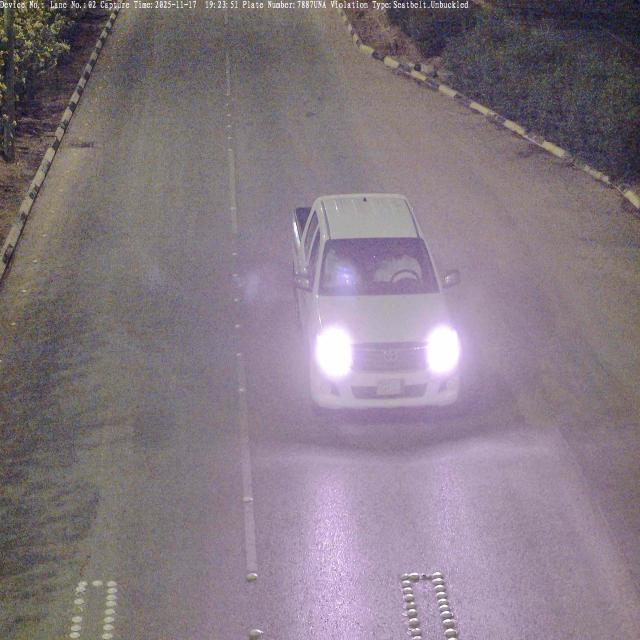person_without_seatbelt: (376, 241, 422, 286)
